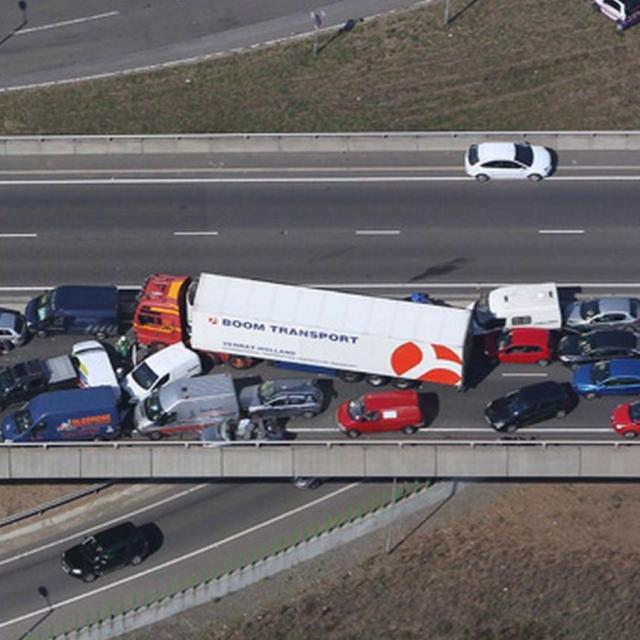traffic_incident: (104, 284, 594, 428)
